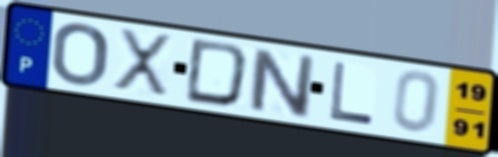0: (388, 69, 444, 136)
D: (182, 36, 252, 110)
L: (328, 59, 377, 127)
N: (248, 45, 316, 121)
O: (50, 21, 112, 88)
X: (110, 25, 174, 101)
